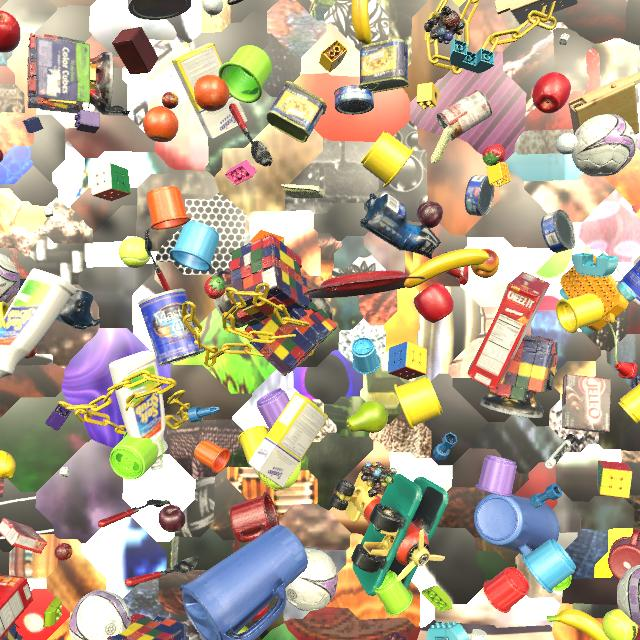ycb_002_master_chef_can: (138, 289, 205, 366), (617, 260, 640, 306)
ycb_003_cracker_box: (468, 272, 550, 390), (0, 575, 33, 639)
ycb_004_sugar_box: (248, 392, 329, 488), (172, 43, 248, 139)
ycb_005_tomato_soup_can: (437, 90, 492, 141)
ycb_007_tuna_fish_can: (541, 209, 576, 253), (334, 84, 374, 115), (465, 175, 494, 217)
ycb_008_pudding_box: (562, 374, 611, 433)
ycb_009_gelatin_box: (0, 518, 47, 554)
ycb_010_potted_meat_can: (266, 81, 327, 142), (358, 38, 409, 93)
ycb_011_banana: (404, 248, 489, 288), (547, 609, 610, 640), (351, 0, 372, 45)
ycb_012_strawberry: (204, 276, 226, 299), (482, 144, 505, 166)
ycb_013_apple: (414, 283, 454, 323), (532, 72, 571, 113), (0, 10, 21, 53), (250, 604, 269, 622)
ycb_014_lemon: (0, 450, 16, 479)
ycb_015_peach: (471, 249, 499, 278)
ycb_016_pear: (346, 401, 388, 433), (238, 626, 249, 633)
ycb_017_orange: (143, 106, 179, 142), (194, 75, 230, 111)
ycb_018_plum: (158, 505, 186, 532), (417, 201, 443, 228), (385, 632, 408, 640)
